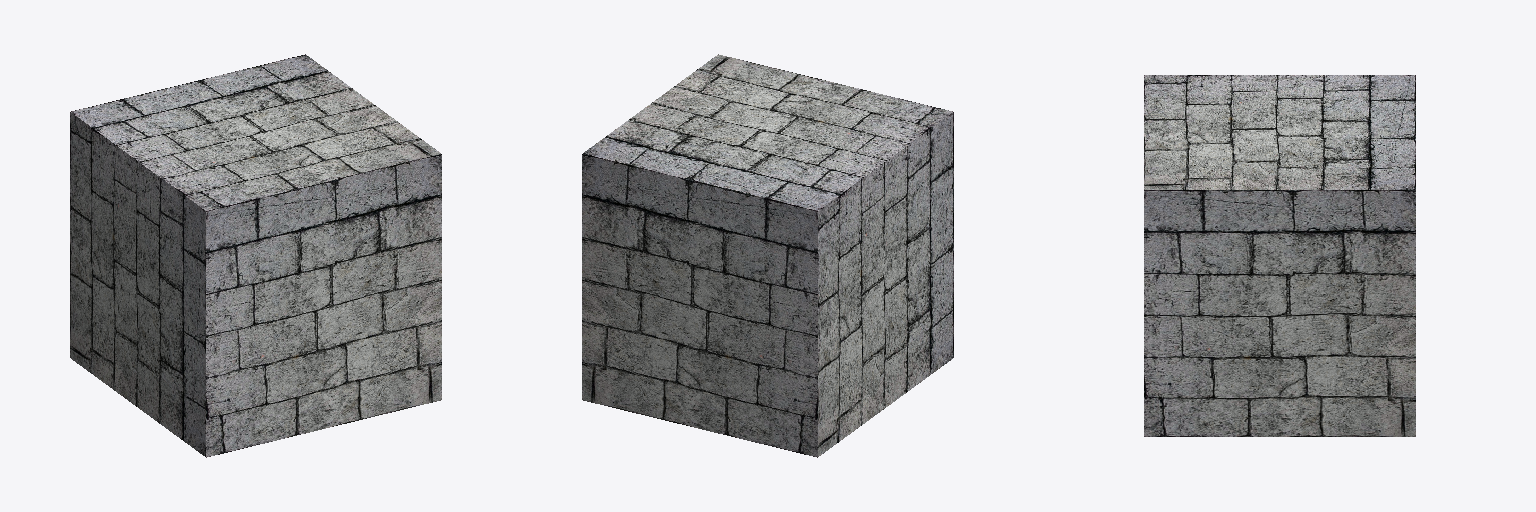
3 views of the same model, side by side, from view 1: azimuth 30°, elevation 25°; view 2: azimuth 150°, elevation 25°; view 3: azimuth 270°, elevation 25° (orthographic).
Parts seen in each view (by area): view 1: Cube; view 2: Cube; view 3: Cube.
Boxes of the visible parts, box(x1,y1,x2,y2) form: Cube: box(70, 54, 441, 457); Cube: box(582, 54, 953, 457); Cube: box(1144, 75, 1415, 436).
Size of the model in its own units: 2 by 2 by 2.
Materials: 5 (1 with a texture image).